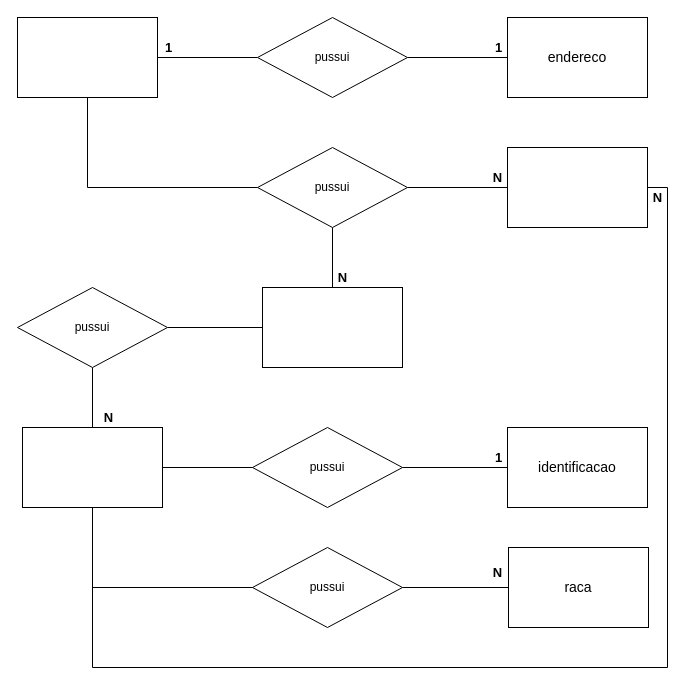
Some shapes in this 686 by 686 pixel diagram are drawn without their labels. The shapes that lost their labels are listed below. From the top down, each one's centre as x and y in pixels, then its label:
At point 87,57: "clinica".
At point 577,187: "veterinarios".
At point 332,327: "clientes".
At point 92,467: "pets".
